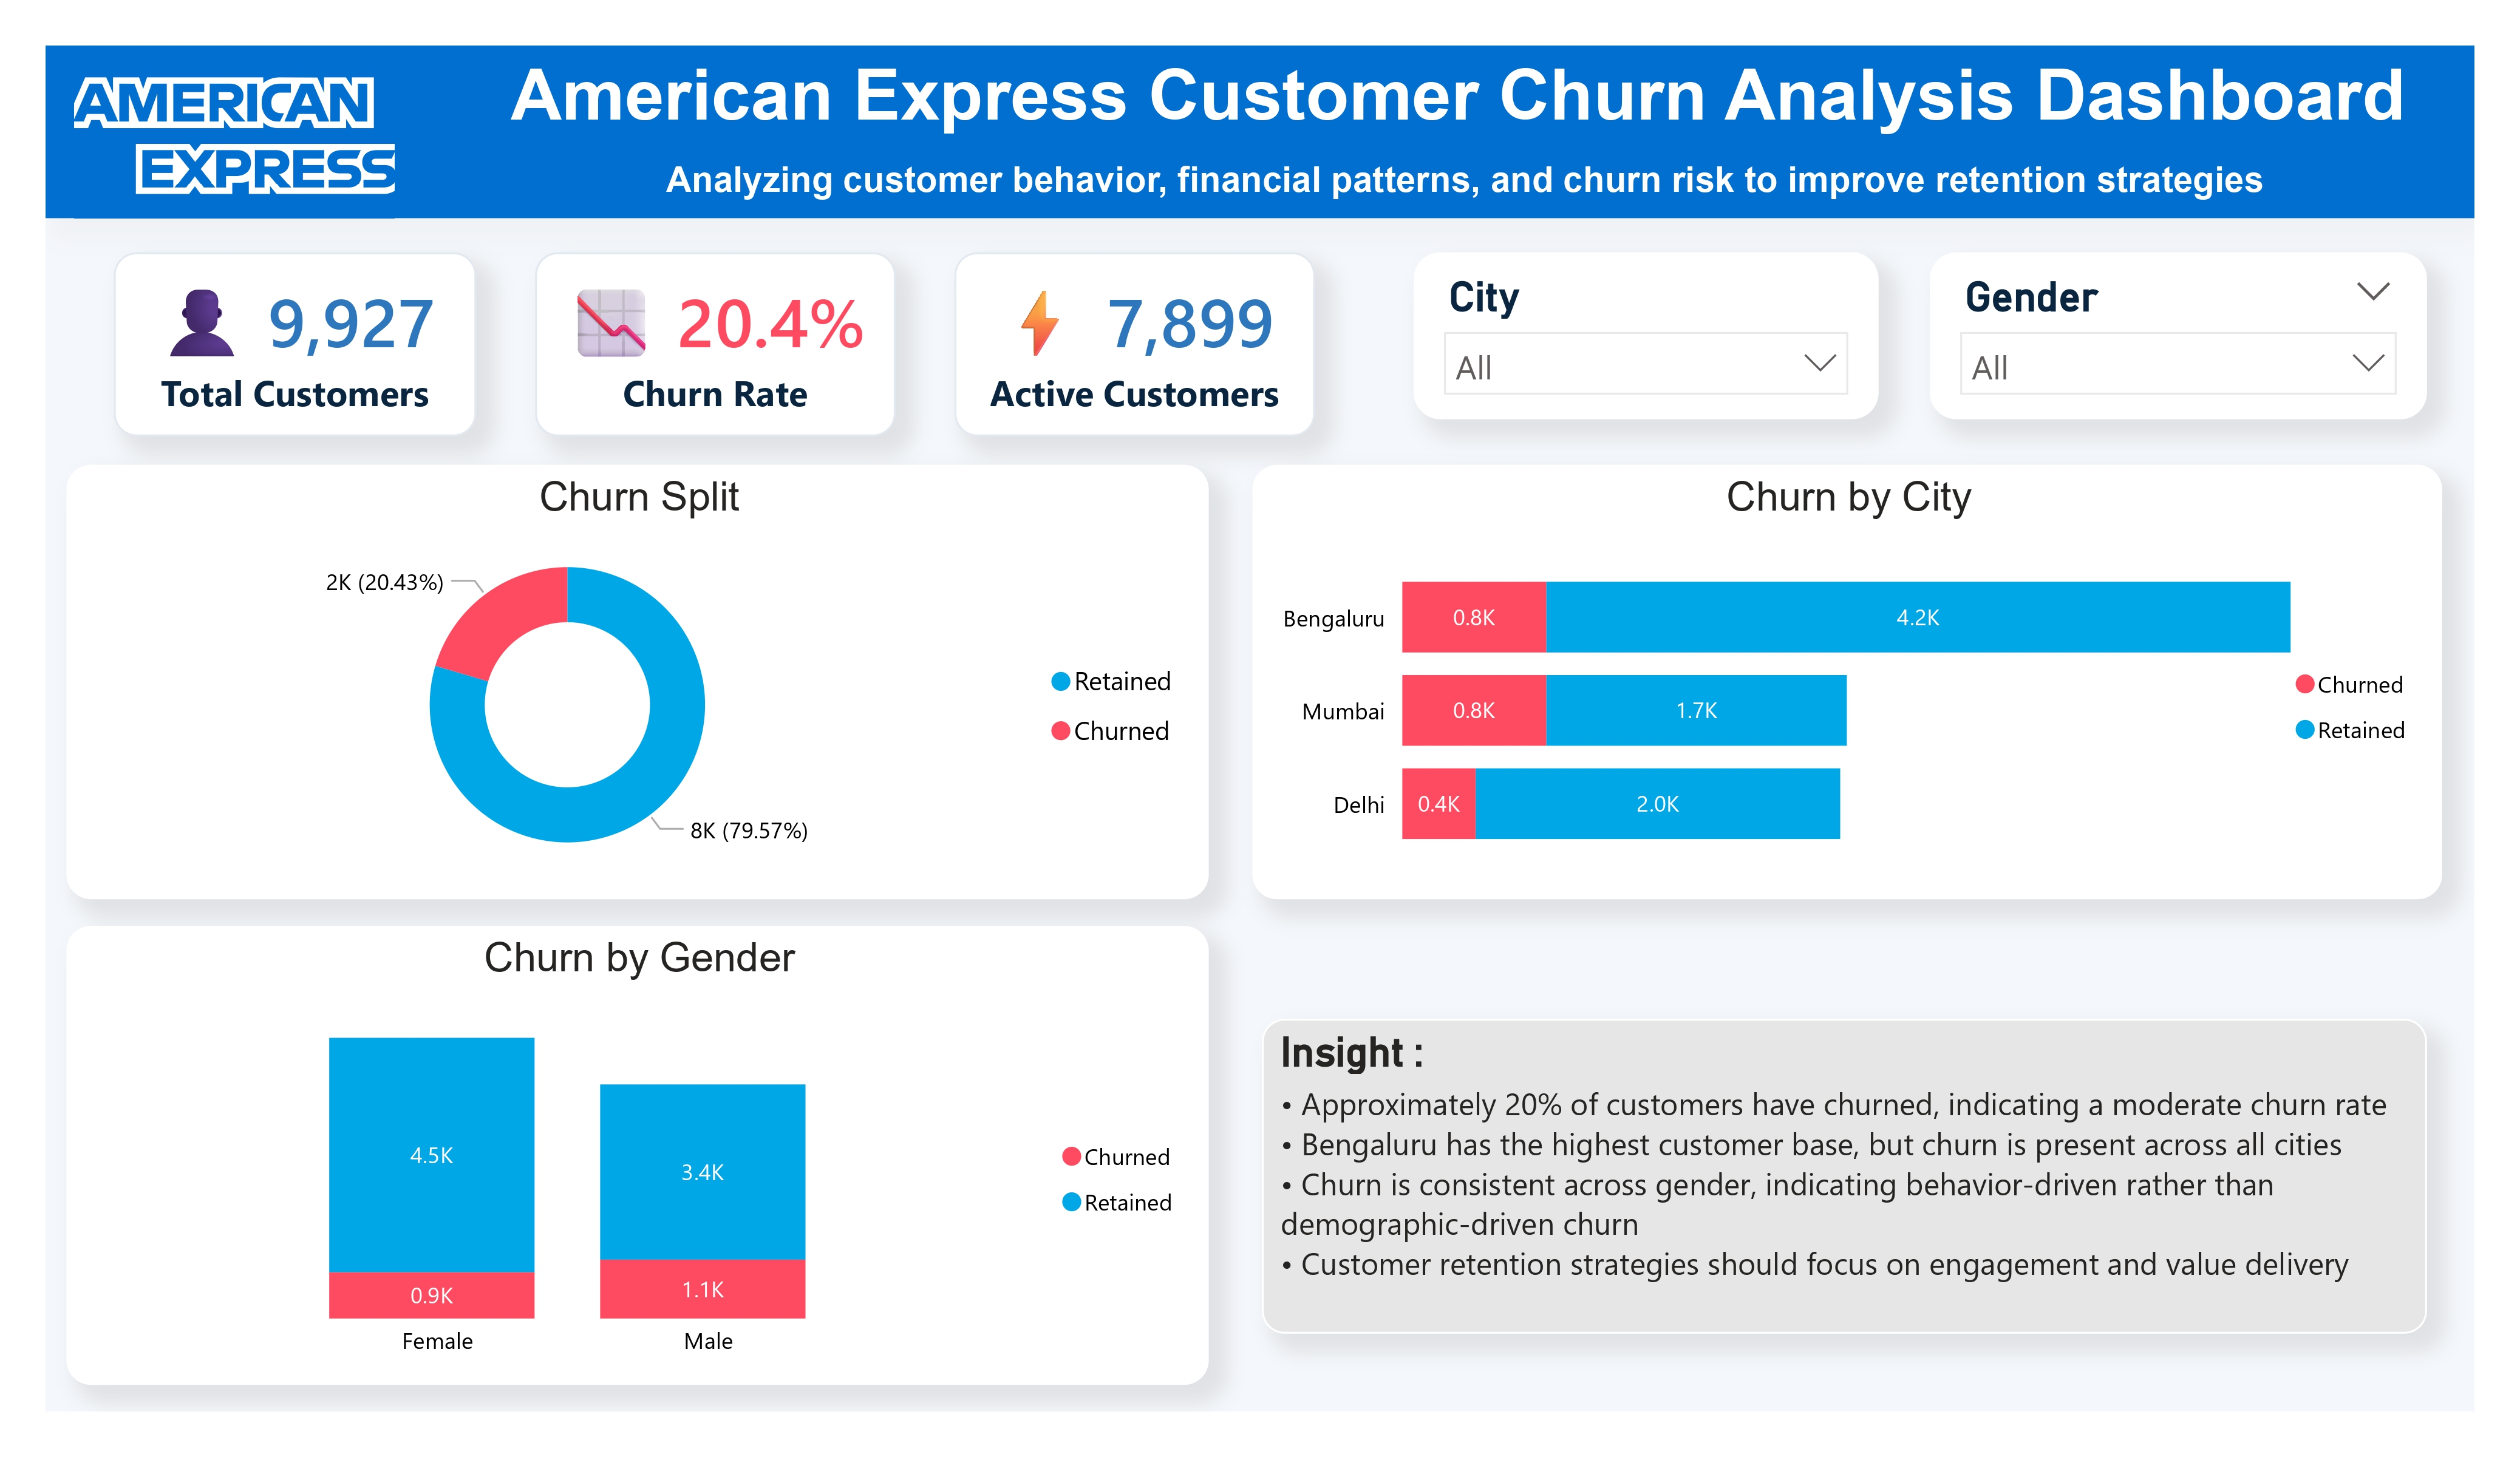

The page's visual inventory and layout, read from the dashboard file:
{"tool":"powerbi","page":{"name":"EXECUTIVE OVERVIEW","canvas":[1280,720],"ordinal":0},"visuals":[{"type":"textbox","box":[0,0,1280.2,90.9],"z":0},{"type":"image","box":[10.9,0,177,90.9],"z":1000},{"type":"textbox","box":[241.3,54.6,1013.5,54.6],"z":2000},{"type":"cardVisual","fields":{"Data":["amex_project customers.Total Customers KPI"]},"box":[36.4,109.1,190.3,97],"z":3000},{"type":"cardVisual","fields":{"Data":["amex_project customers.Churn KPI"]},"box":[257.6,109.1,190.3,97],"z":4000},{"type":"cardVisual","fields":{"Data":["amex_project customers.Active KPI"]},"box":[478.9,109.1,190.3,97],"z":5000},{"type":"donutChart","title":"Churn Split","fields":{"Category":["amex_project customers.Customer_Status"],"Y":["amex_project customers.Total Customers"]},"box":[10.9,220.6,602.5,229.1],"z":6000},{"type":"textbox","title":"Insight :","box":[640.7,512.8,614,166.3],"z":7000},{"type":"barChart","title":"Churn by City","fields":{"Category":["amex_project customers.City"],"Y":["amex_project customers.Total Customers"],"Series":["amex_project customers.Customer_Status"]},"box":[636.5,220.6,626.8,229.1],"z":8000},{"type":"slicer","fields":{"Values":["amex_project customers.City"]},"box":[720.9,109.3,245.3,87.2],"z":9000},{"type":"slicer","fields":{"Values":["amex_project customers.Gender"]},"box":[993,109.3,261.6,87.2],"z":10000},{"type":"columnChart","title":"Churn by Gender","fields":{"Category":["amex_project customers.Gender"],"Y":["amex_project customers.Total Customers"],"Series":["amex_project customers.Customer_Status"]},"box":[10.9,464.3,602.5,241.3],"z":11000}]}

Visuals, with their boxes on the page's 1280x720 design canvas (x1, y1, x2, y2). These are canvas units, not pixel positions in the 2520x1457 screenshot, which may show the page scaled, cropped or inside an application window:
textbox: box(0, 0, 1280, 91)
image: box(11, 0, 188, 91)
textbox: box(241, 55, 1255, 109)
cardVisual - amex_project customers.Total Customers KPI: box(36, 109, 227, 206)
cardVisual - amex_project customers.Churn KPI: box(258, 109, 448, 206)
cardVisual - amex_project customers.Active KPI: box(479, 109, 669, 206)
"Churn Split" donutChart: box(11, 221, 613, 450)
"Insight :" textbox: box(641, 513, 1255, 679)
"Churn by City" barChart: box(636, 221, 1263, 450)
slicer - amex_project customers.City: box(721, 109, 966, 196)
slicer - amex_project customers.Gender: box(993, 109, 1255, 196)
"Churn by Gender" columnChart: box(11, 464, 613, 706)
